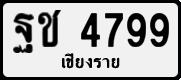letters: (12, 11, 34, 55), (37, 8, 61, 48), (79, 10, 102, 48), (103, 10, 124, 48), (126, 12, 147, 49), (149, 11, 170, 48)
province: (59, 52, 121, 71)
